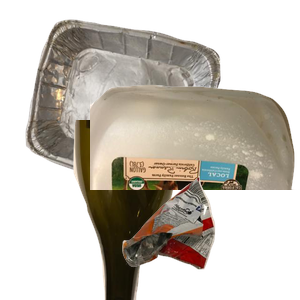glass: (71, 120, 254, 300)
metal: (23, 17, 236, 197)
plastic: (90, 82, 300, 262)
trash: (120, 174, 300, 300)
